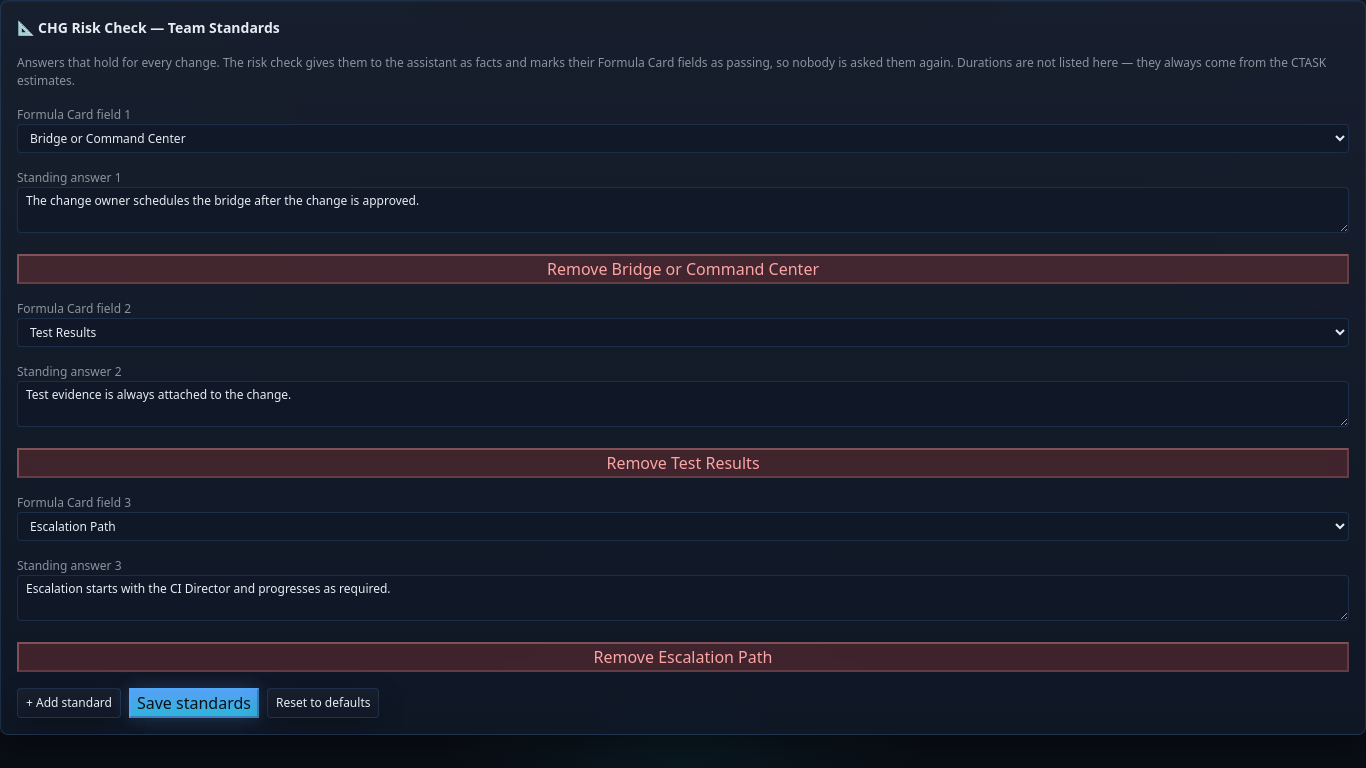
Test: ChgTeamStandardsPanel › saves an edited answer, which the risk check then uses
Replace the text in the text box showing "Escalation starts with the CI Director and progresses as required." with "Start with the on-call lead.": (683, 598) 17,575 -> 1349,621
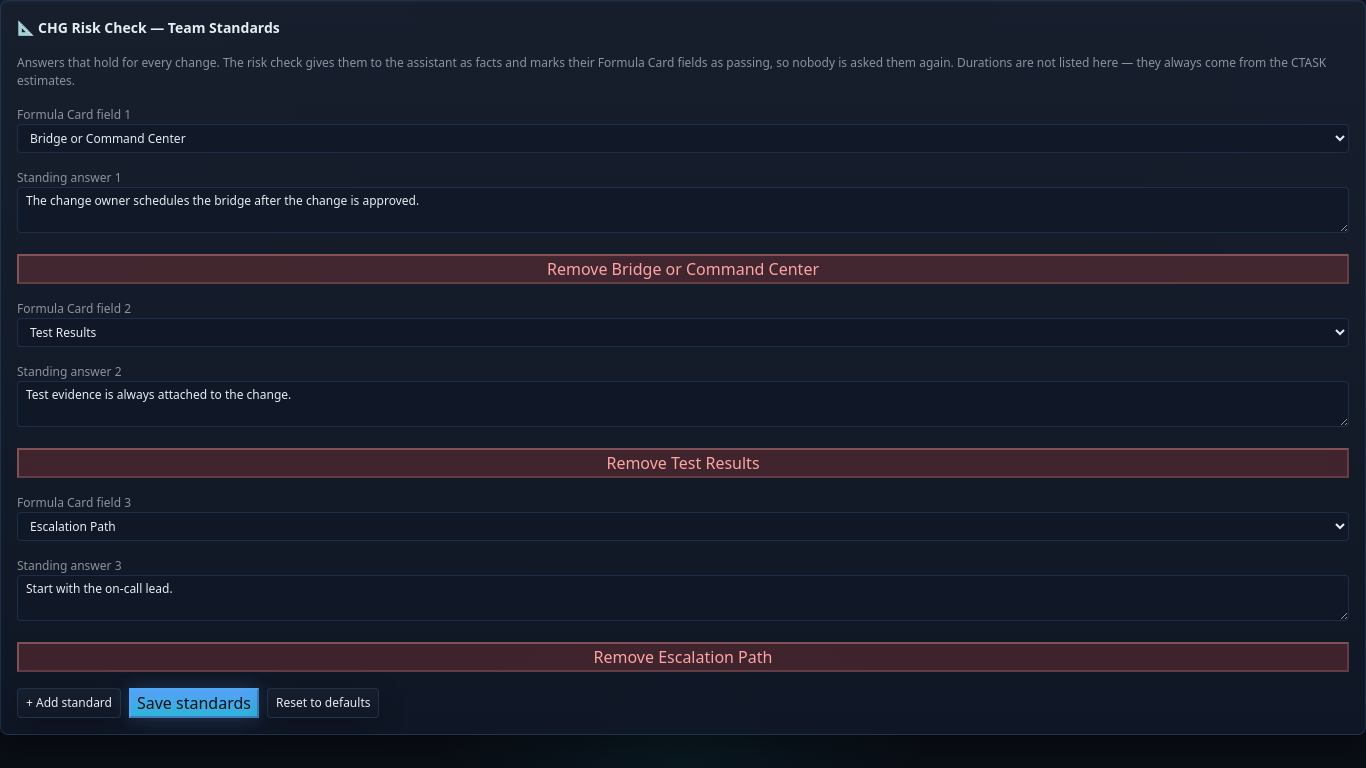
Click the button "Save standards": (194, 703) 129,688 -> 259,718
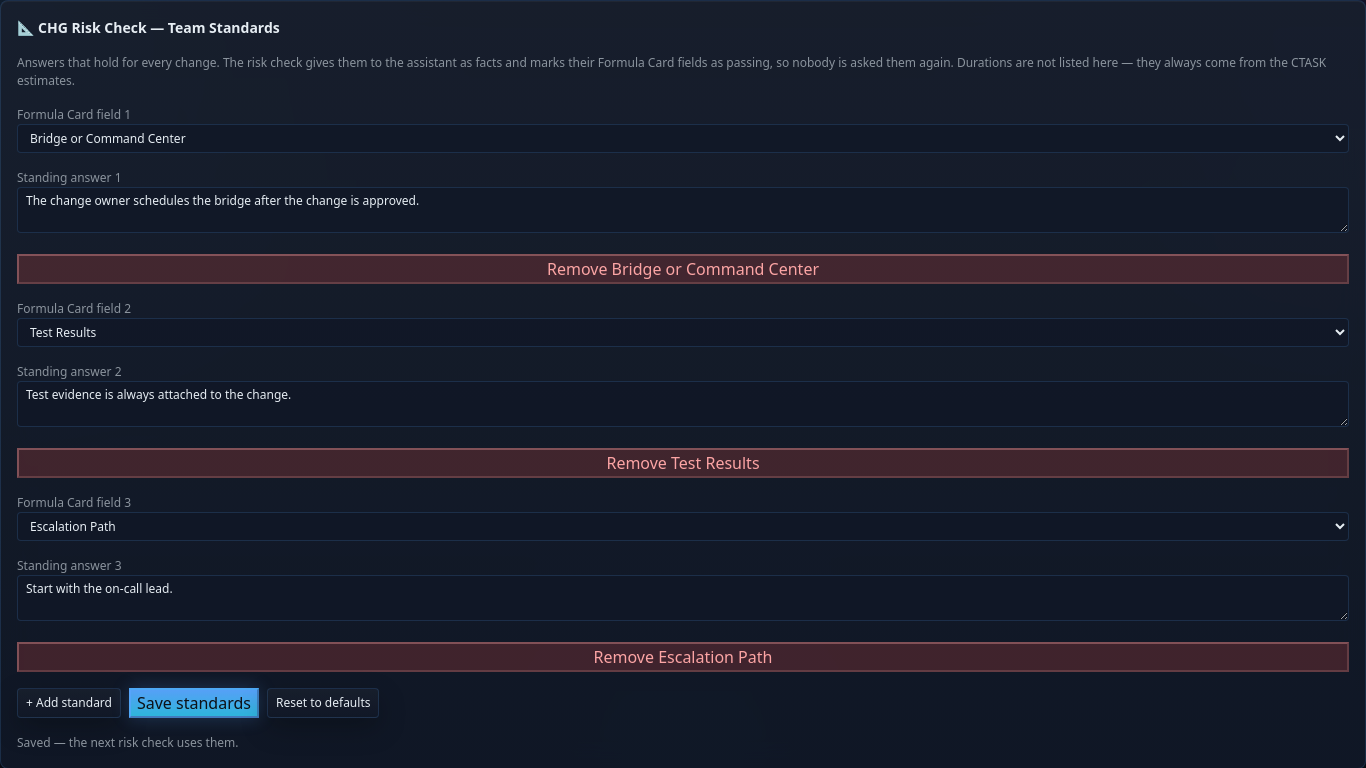
Expected: the text "Saved — the next risk check uses them." is shown, 17,734 -> 238,751
